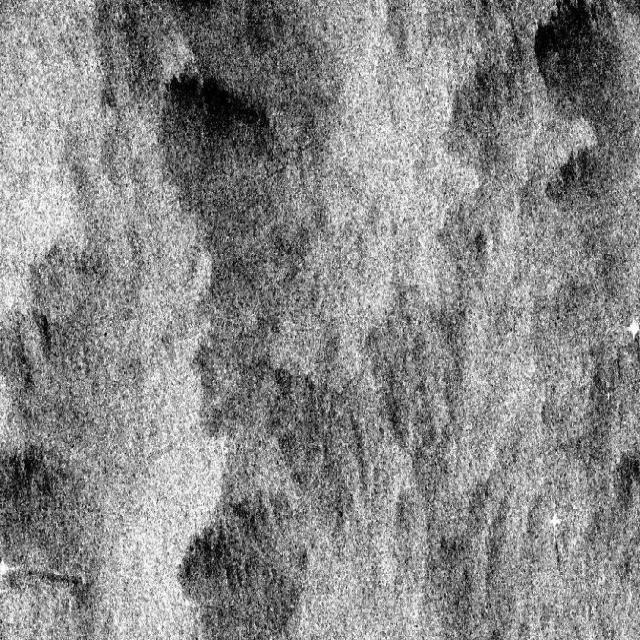look-alike: (245, 350, 363, 525), (177, 492, 309, 638), (2, 437, 101, 625), (158, 59, 283, 180), (446, 29, 531, 179), (534, 1, 621, 134), (1, 304, 56, 412), (366, 344, 416, 449), (552, 148, 619, 226), (608, 427, 638, 530), (460, 211, 491, 291)
